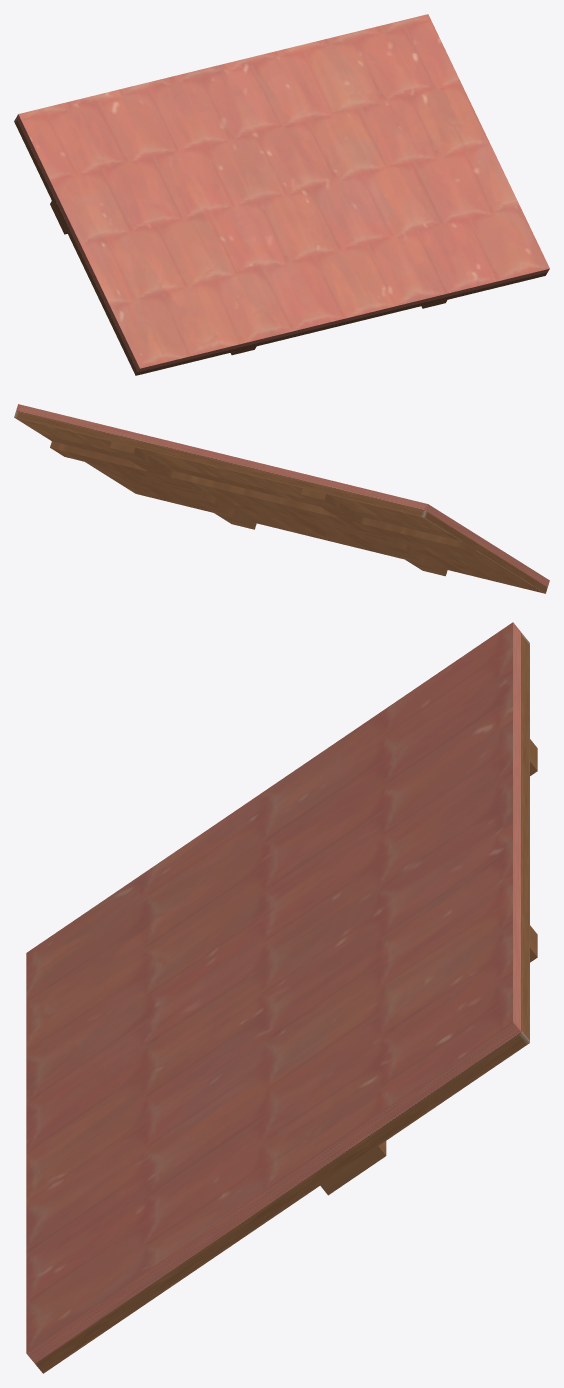
File: sm_building_wapian03_03.FBX
3 views of the same model, one above another, from view 1: azimuth 30°, elevation 25°; view 2: azimuth 150°, elevation 25°; view 3: azimuth 270°, elevation 25° (orthographic). The views are drawn at different scales.
Visible parts, largest first — view 1: 1214, 1215; view 2: 1215, 1216, 1214; view 3: 1214, 1215, 1216.
Part boxes in pixels (bbox=[...]): 1214: bbox=[16, 14, 549, 372]; 1215: bbox=[14, 118, 547, 375]; 1215: bbox=[14, 411, 547, 593]; 1216: bbox=[50, 441, 476, 576]; 1214: bbox=[16, 404, 549, 587]; 1214: bbox=[26, 622, 521, 1363]; 1215: bbox=[35, 633, 529, 1373]; 1216: bbox=[320, 739, 537, 1195].
Bounding box in the file's own units: 512 × 216 × 277.
Materials: 1 (1 with a texture image).
